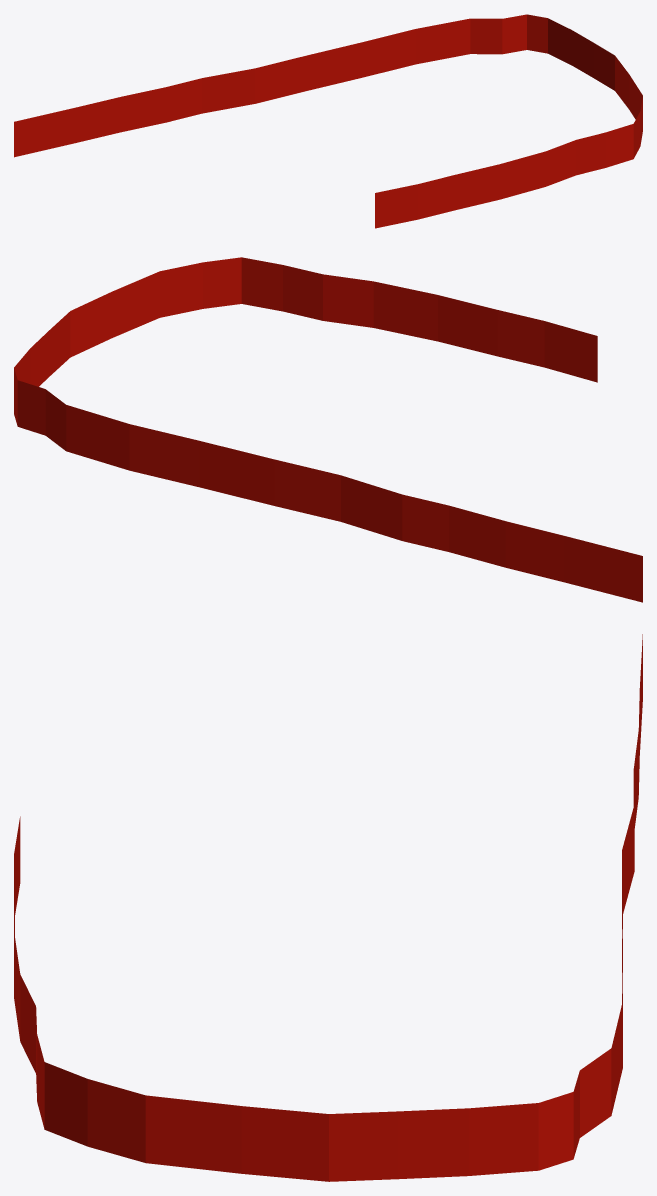
File: RacingGameLevelCollision — kopia.fbx
3 renders of one model, top to bottom at view 1: azimuth 30°, elevation 25°; view 2: azimuth 150°, elevation 25°; view 3: azimuth 270°, elevation 25°, orthographic. The views are drawn at different scales.
Visible parts, largest first — view 1: Collision; view 2: Collision; view 3: Collision.
Boxes of the visible parts, left/top/right/bottom form: Collision: left=14, top=14, right=642, bottom=228; Collision: left=14, top=257, right=642, bottom=602; Collision: left=14, top=634, right=642, bottom=1181.
Size of the model in its own units: 46.45 by 3.04 by 25.57.
